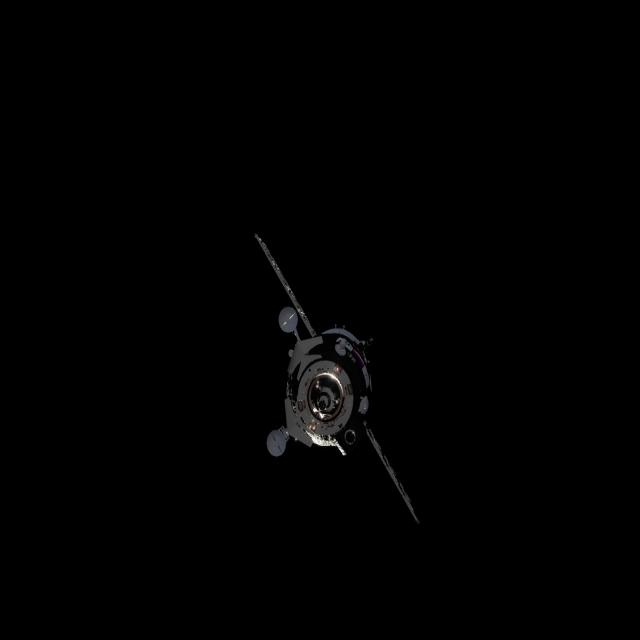Satellites revolving around earth: (252, 230, 420, 526), (281, 326, 373, 457)
